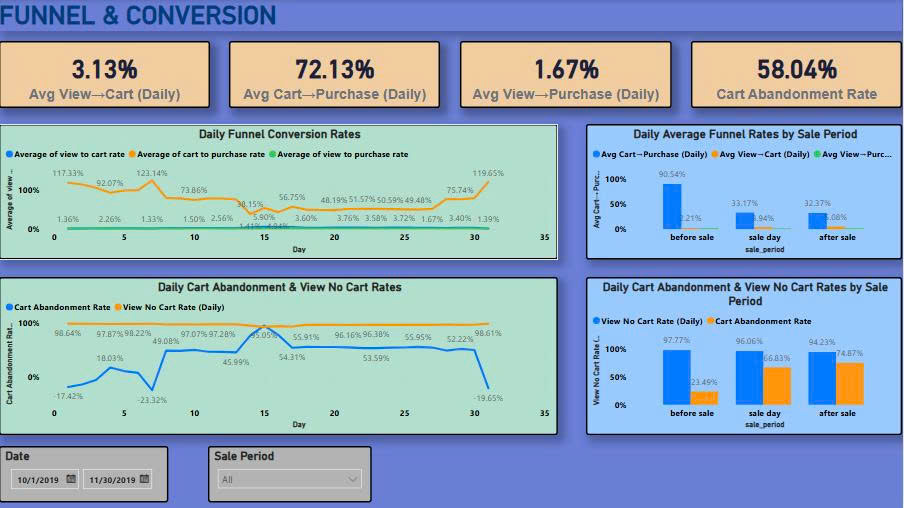

The dashboard page shown, as its layout file describes it:
{"tool":"powerbi","page":{"name":"FUNNEL & CONVERSION","canvas":[1280,720],"ordinal":1},"visuals":[{"type":"shape","title":"FUNNEL & CONVERSION","box":[0,0,1280.2,43.9],"z":0},{"type":"card","fields":{"Values":["funnel.Avg View→Cart (Daily)"]},"box":[0,58,299.4,94.8],"z":1000},{"type":"card","fields":{"Values":["funnel.Avg Cart→Purchase (Daily)"]},"box":[326.6,58,299.4,94.8],"z":2000},{"type":"card","fields":{"Values":["funnel.Avg View→Purchase (Daily)"]},"box":[653.3,58,300.3,94.8],"z":3000},{"type":"card","fields":{"Values":["funnel.Cart Abandonment Rate (Avg Daily)"]},"box":[980.8,58,299.4,94.8],"z":4000},{"type":"slicer","title":"Date","fields":{"Values":["Calendar.Date"]},"box":[0,632,240,80],"z":5000},{"type":"lineChart","title":"Daily Funnel Conversion Rates","fields":{"Category":["Calendar.Date.Variation.Date Hierarchy.Day"],"Y":["Avg(funnel.view to cart rate)","Avg(funnel.cart to purchase rate)","Avg(funnel.view to purchase rate)"]},"box":[0,176,792,192],"z":6000},{"type":"clusteredColumnChart","title":"Daily Average Funnel Rates by Sale Period","fields":{"Category":["funnel.sale_period"],"Y":["funnel.Avg Cart→Purchase (Daily)","funnel.Avg View→Cart (Daily)","funnel.Avg View→Purchase (Daily)"]},"box":[832,176,448,192],"z":7000},{"type":"lineChart","title":"Daily Cart Abandonment & View No Cart Rates","fields":{"Category":["Calendar.Date.Variation.Date Hierarchy.Day"],"Y":["funnel.Cart Abandonment Rate (Avg Daily)","funnel.View No Cart Rate"]},"box":[0,392,792,224],"z":8000},{"type":"clusteredColumnChart","title":"Daily Cart Abandonment & View No Cart Rates by Sale Period","fields":{"Y":["funnel.View No Cart Rate (Daily)","funnel.Cart Abandonment Rate (Avg Daily)"],"Category":["funnel.sale_period"]},"box":[832,392,448,224],"z":9000},{"type":"slicer","title":"Sale Period","fields":{"Values":["funnel.sale_period"]},"box":[296,632,232,80],"z":10000}]}

Visuals, with their boxes in screenshot pixels (x1, y1, x2, y2), scaled from the page's 1280x720 canvas onto the 904x508 screenshot:
"FUNNEL & CONVERSION" shape: region(0, 0, 903, 31)
card - funnel.Avg View→Cart (Daily): region(0, 41, 211, 108)
card - funnel.Avg Cart→Purchase (Daily): region(231, 41, 442, 108)
card - funnel.Avg View→Purchase (Daily): region(461, 41, 673, 108)
card - funnel.Cart Abandonment Rate (Avg Daily): region(693, 41, 903, 108)
"Date" slicer: region(0, 446, 170, 502)
"Daily Funnel Conversion Rates" lineChart: region(0, 124, 559, 260)
"Daily Average Funnel Rates by Sale Period" clusteredColumnChart: region(588, 124, 903, 260)
"Daily Cart Abandonment & View No Cart Rates" lineChart: region(0, 277, 559, 435)
"Daily Cart Abandonment & View No Cart Rates by Sale Period" clusteredColumnChart: region(588, 277, 903, 435)
"Sale Period" slicer: region(209, 446, 373, 502)
